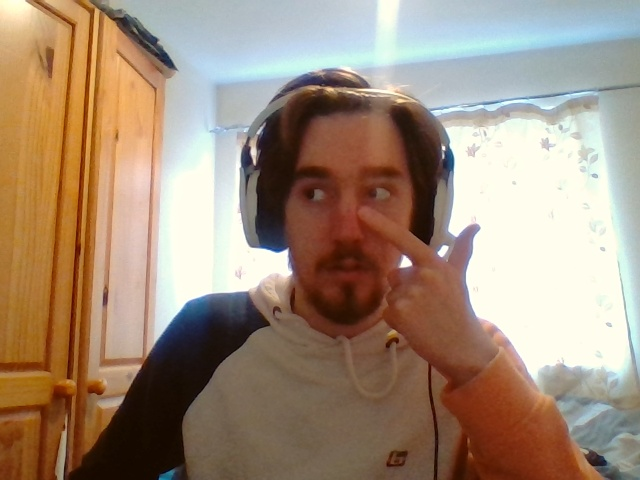luck: (358, 205, 480, 341)
